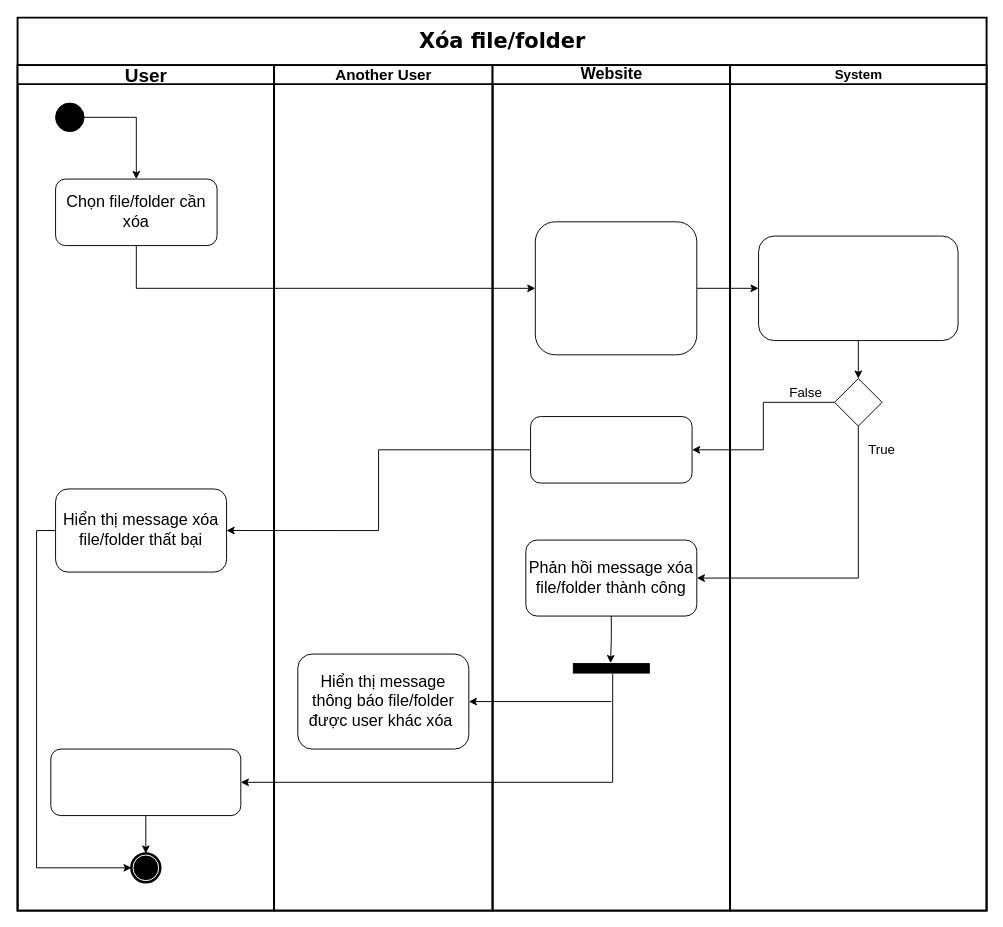
The diagram is 1003 pixels wide and 927 high, and some of its shapes have lost their labels. The centre of each missing label's shape, as x and y in pixels:
Gửi message websocket thông tin file/folder cần xóa, quyền của user: point (615, 288)
Hiển thị message xóa thành công: point (145, 782)
Kiểm tra quyền của user với file/folder cần xóa: point (858, 288)
Phản hồi message không đủ quyền xóa: point (611, 449)
